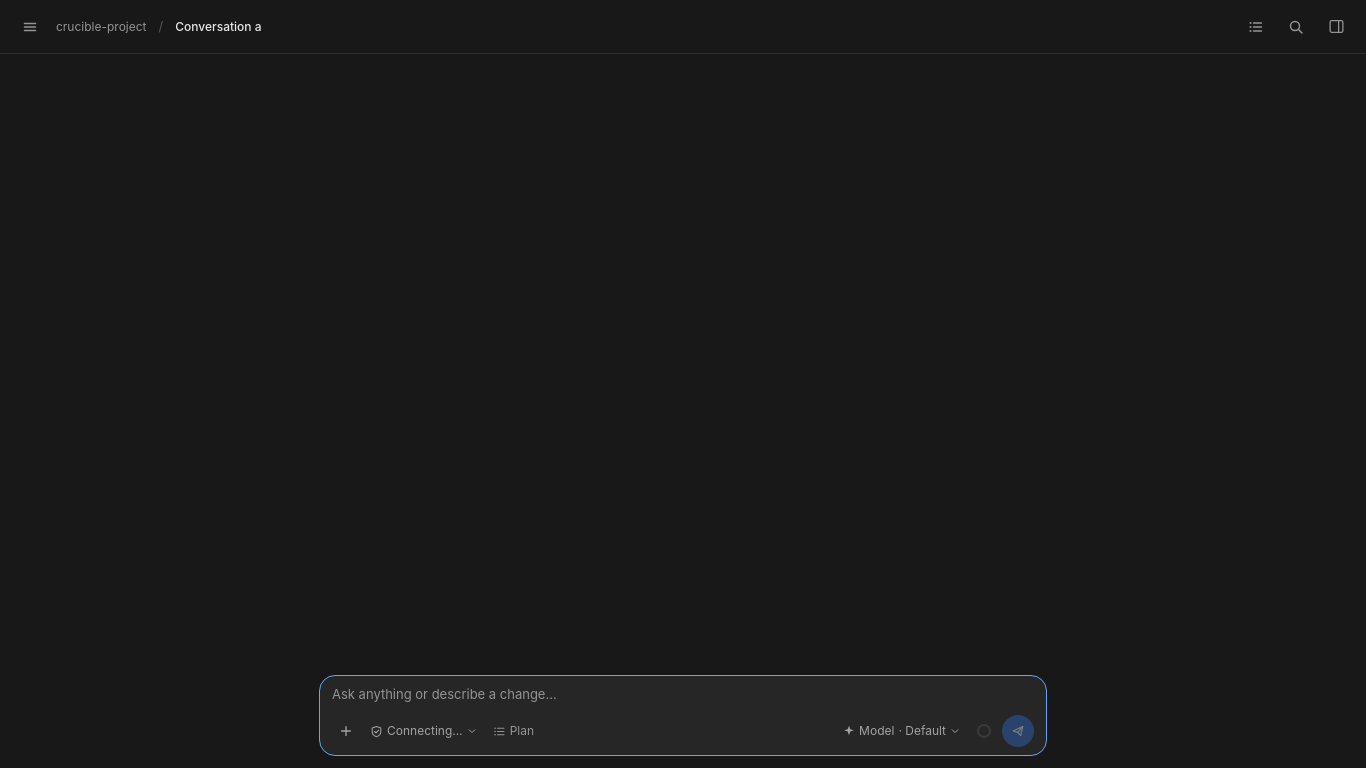
single-project desktop shell › keeps approvals discoverable when the conversation is hidden by inspection
The width and height of the screenshot is (1366, 768).
Step 1. Click the button named "Open workspace" → x=1336, y=26, box x1=1322 y1=12 x2=1350 y2=40
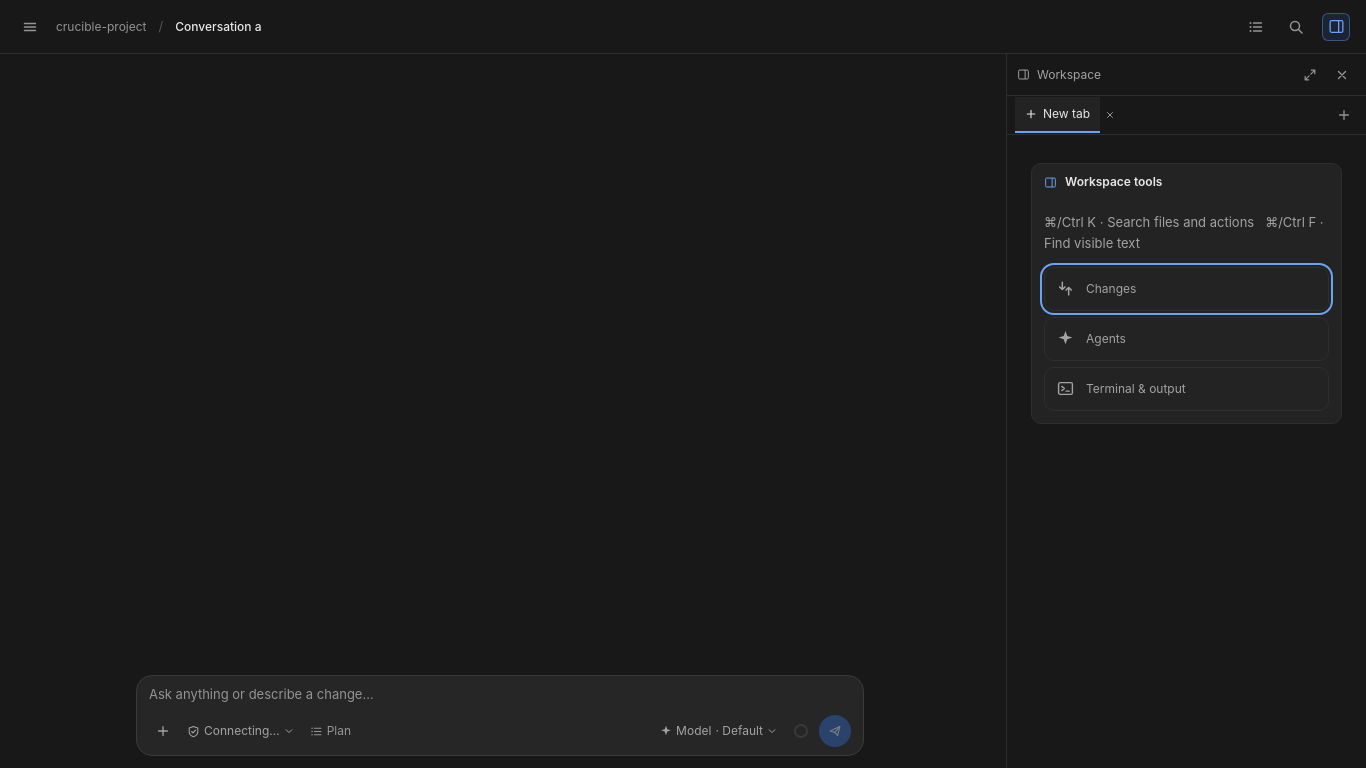
Step 2. Click the button named "Expand workspace" → x=1310, y=74, box x1=1296 y1=60 x2=1324 y2=88
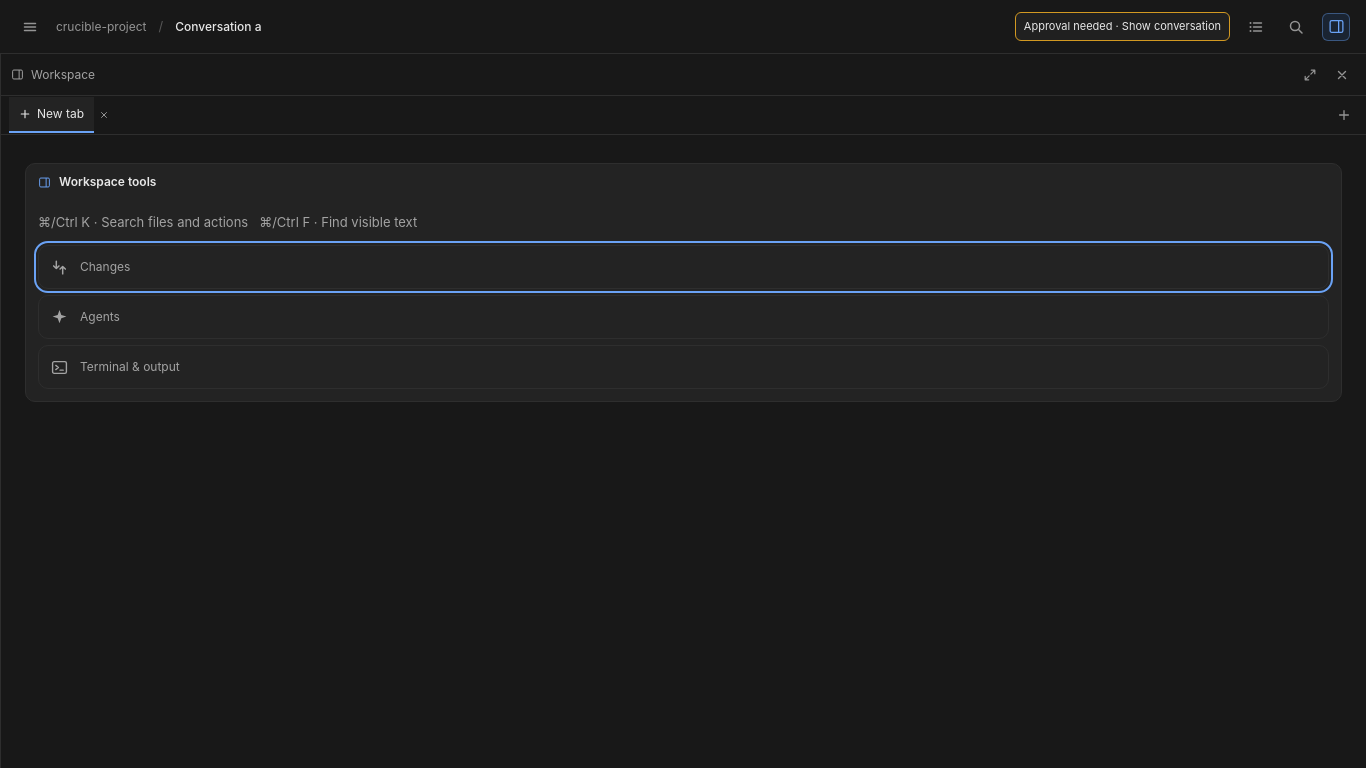
Step 3. Click the button "Approval needed · Show conversation" → x=1122, y=27, box x1=1015 y1=12 x2=1230 y2=41
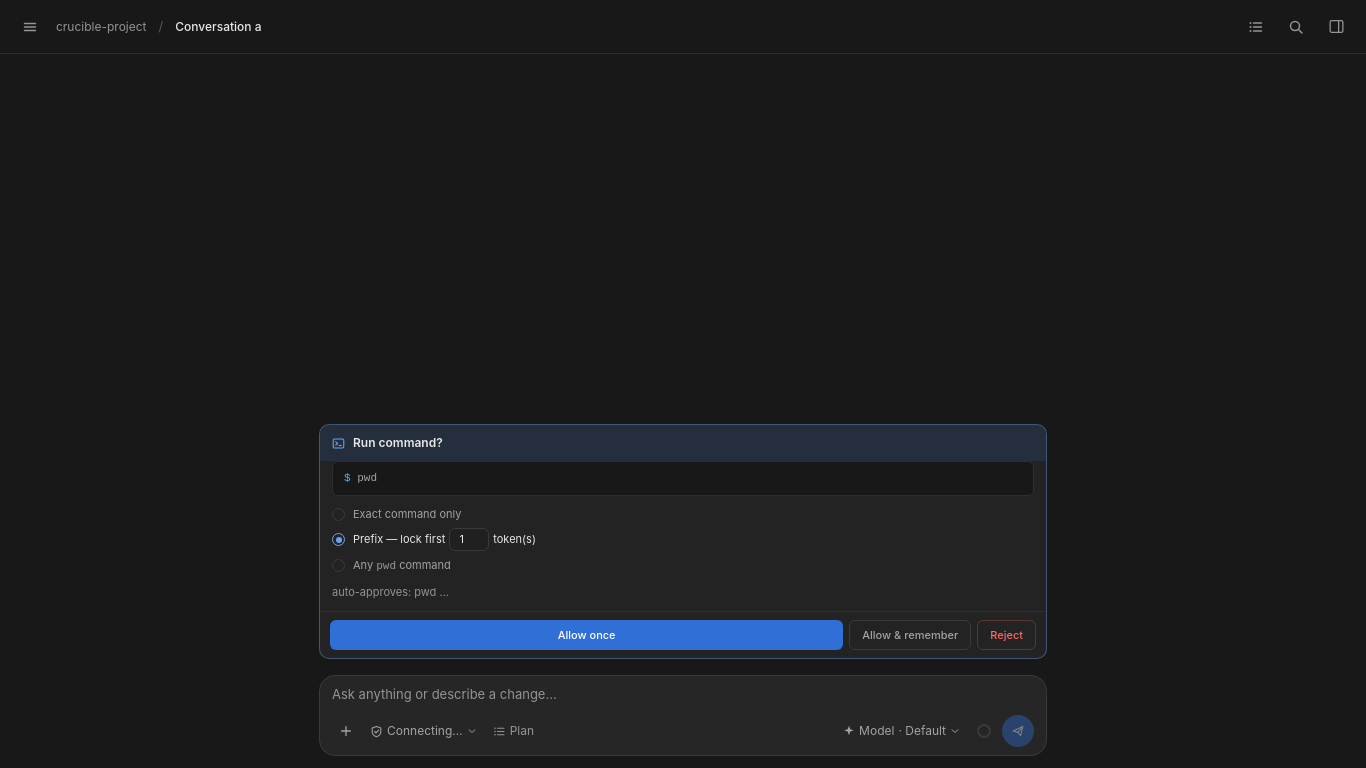
expect the text box named "Chat input" is shown: met, box x1=332 y1=684 x2=1034 y2=706
expect the element "Workspace" is gone: met
